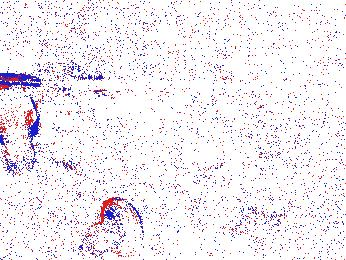flame jellyfish: (215, 203, 288, 260), (76, 198, 144, 257), (1, 84, 41, 175)
